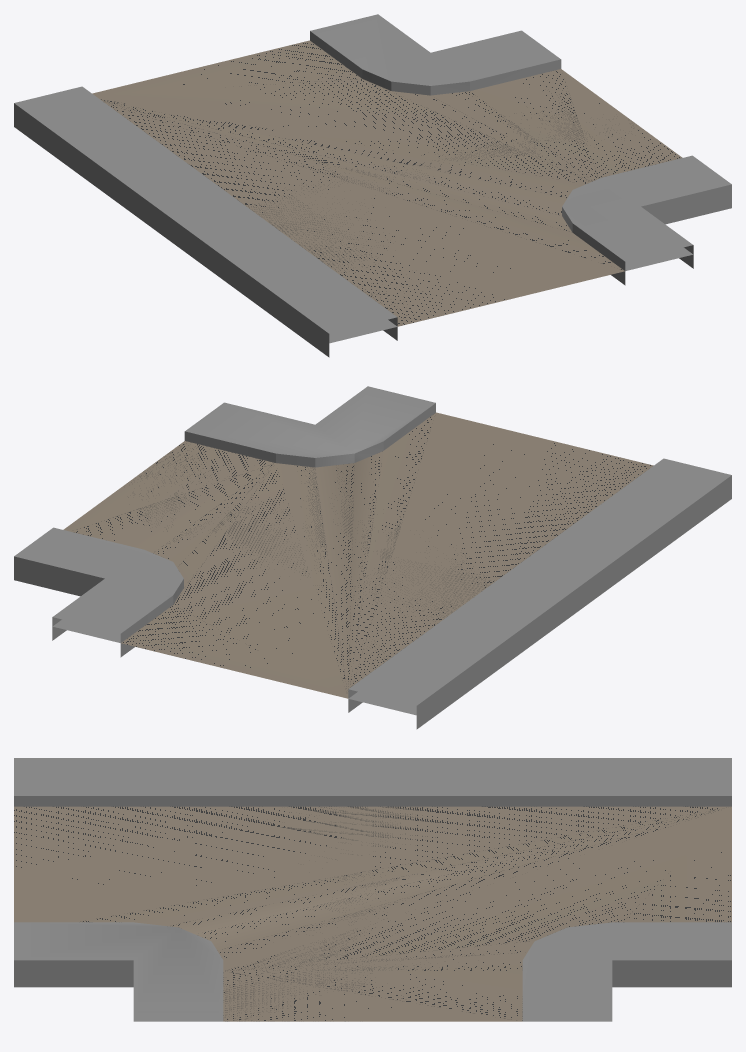
The picture shows the model from 3 angles, top to bottom: view 1: azimuth 30°, elevation 25°; view 2: azimuth 150°, elevation 25°; view 3: azimuth 270°, elevation 25°; orthographic projection. The views are drawn at different scales.
Visible parts, largest first — view 1: Model_0, Skybox; view 2: Model_0, Skybox; view 3: Model_0, Skybox.
Boxes of the visible parts, left/top/right/bottom form: Model_0: left=14, top=14, right=731, bottom=357; Skybox: left=246, top=96, right=692, bottom=343; Model_0: left=14, top=386, right=731, bottom=729; Skybox: left=53, top=412, right=653, bottom=715; Model_0: left=14, top=758, right=731, bottom=1021; Skybox: left=14, top=806, right=612, bottom=1021.
Size of what is drawn, in the model's own units: 2000 by 100 by 2400.
